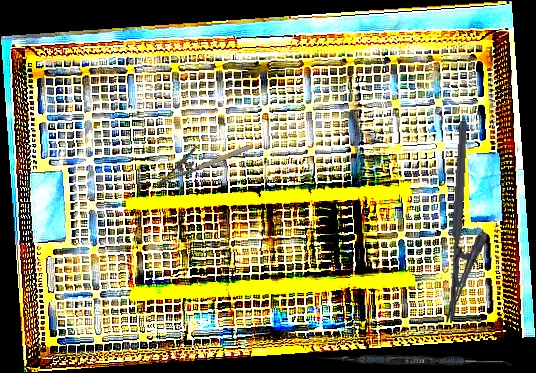Needle Holder: (444, 120, 496, 326), (147, 128, 252, 188)
Spatula Surgical: (318, 355, 513, 366)
